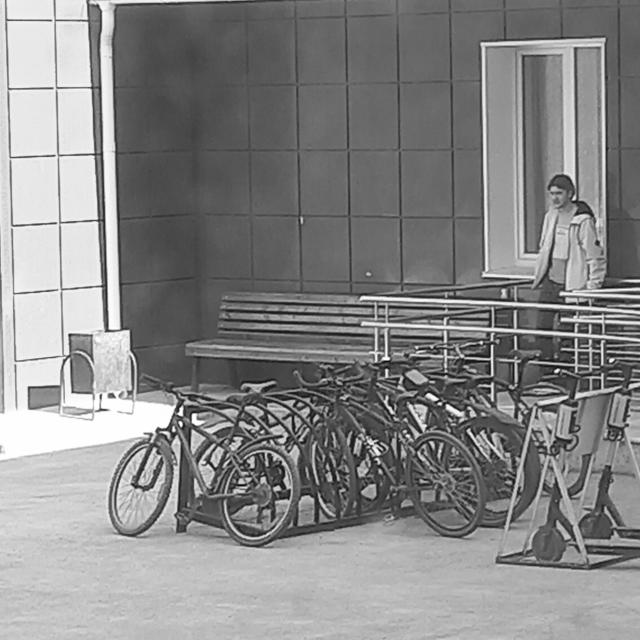Invader: (529, 172, 606, 378)
